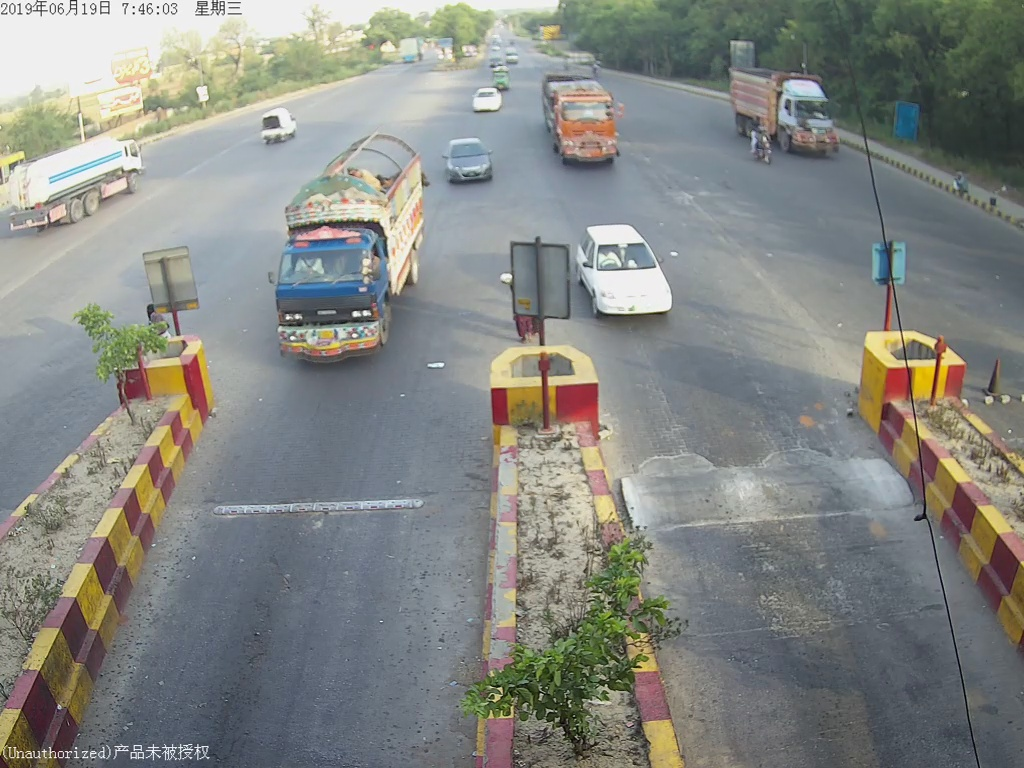Cat-1: (572, 215, 684, 336), (446, 131, 497, 181)
Cat-4: (275, 129, 431, 373)
